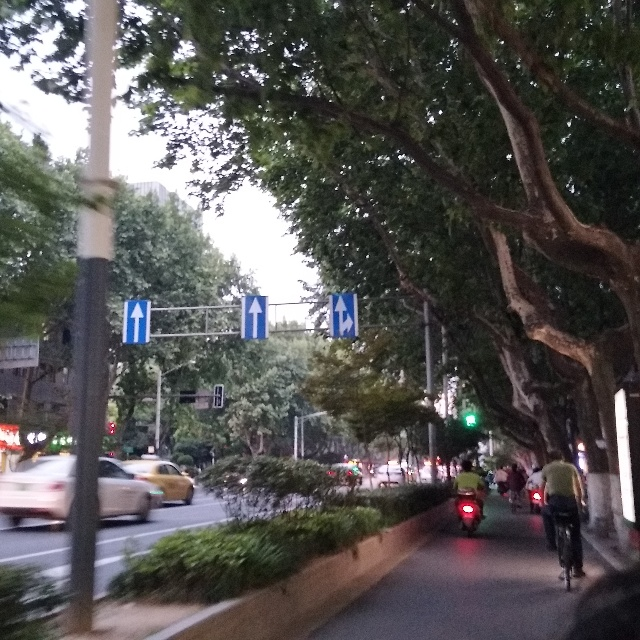straight: (123, 299, 152, 346), (244, 296, 266, 340)
